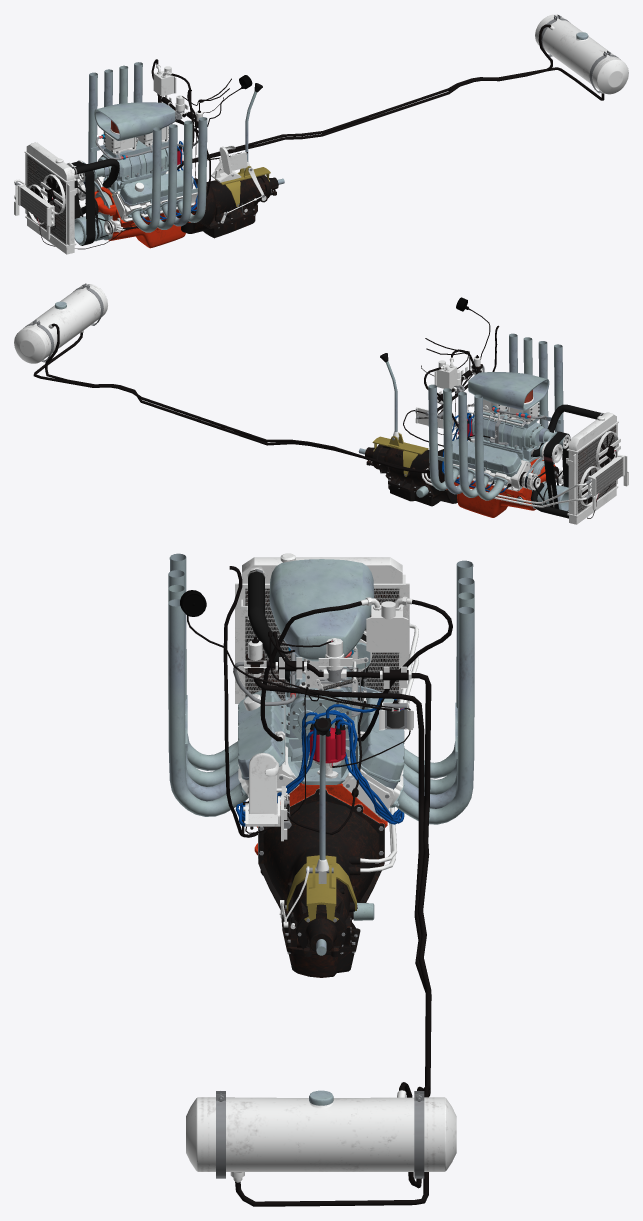
3 views of the same model, one above another, from view 1: azimuth 30°, elevation 25°; view 2: azimuth 150°, elevation 25°; view 3: azimuth 270°, elevation 25° (orthographic). The views are drawn at different scales.
Visible parts, largest first — view 1: SM_Exhaust_UprightHeader_Left, SM_Dragster_Fueltank, SM_Radiator, SM_TH400.001, SM_454_Block, SM_FuelSystem_Pipes, SM_Scoop, SM_Exhaust_UprightHeader_Right, SM_Littlefield_Blower, SM_Transcooler, SM_Blower_Belt, SM_HotFoot_Accelerator_Base (+6 smaller); view 2: SM_Exhaust_UprightHeader_Right, SM_Dragster_Fueltank, SM_Radiator, SM_454_Block, SM_TH400.001, SM_FuelSystem_Pipes, SM_Scoop, SM_Exhaust_UprightHeader_Left, SM_Littlefield_Blower, SM_Transcooler, SM_Blower_Belt, SM_Transcooler_Pipes (+9 smaller); view 3: SM_Dragster_Fueltank, SM_TH400.001, SM_454_Block, SM_Scoop, SM_Exhaust_UprightHeader_Left, SM_Exhaust_UprightHeader_Right, SM_FuelSystem_Pipes, SM_Radiator, SM_FuelSystem, SM_Littlefield_Blower, SM_V8_SparkWires, SM_Breather_Tank_Pipes (+10 smaller).
Boxes of the visible parts, x1,y1,x2,y2 form: SM_Exhaust_UprightHeader_Left: (127,117,207,232); SM_Dragster_Fueltank: (535,14,628,94); SM_Radiator: (24,142,77,254); SM_TH400.001: (186,166,278,238); SM_454_Block: (94,167,197,248); SM_FuelSystem_Pipes: (158,24,604,162); SM_Scoop: (94,102,175,140); SM_Exhaust_UprightHeader_Right: (88,62,142,163); SM_Littlefield_Blower: (82,140,168,182); SM_Transcooler: (14,184,54,239); SM_Blower_Belt: (71,161,95,245); SM_HotFoot_Accelerator_Base: (211,151,247,182); SM_Exhaust_UprightHeader_Right: (428,384,507,500); SM_Dragster_Fueltank: (14,283,107,363); SM_Radiator: (566,412,620,524); SM_454_Block: (446,436,546,517); SM_TH400.001: (365,432,457,506); SM_FuelSystem_Pipes: (33,323,475,473); SM_Scoop: (468,372,549,410); SM_Exhaust_UprightHeader_Left: (509,333,563,432); SM_Littlefield_Blower: (471,409,558,457); SM_Transcooler: (588,454,628,510); SM_Blower_Belt: (543,431,570,508); SM_Transcooler_Pipes: (421,468,591,507); SM_Dragster_Fueltank: (186,1090,456,1178); SM_TH400.001: (258,789,384,977); SM_454_Block: (238,690,404,875); SM_Scoop: (269,559,374,661); SM_Exhaust_UprightHeader_Left: (168,553,248,816); SM_Exhaust_UprightHeader_Right: (389,560,474,824); SM_FuelSystem_Pipes: (233,661,431,1206); SM_Radiator: (235,553,409,703); SM_FuelSystem: (244,637,411,688); SM_Littlefield_Blower: (285,642,370,740); SM_V8_SparkWires: (235,710,404,826); SM_Breather_Tank_Pipes: (260,596,452,741).
Bounding box in the file's own units: 4.34 × 1.32 × 1.02.
Materials: 3 (2 with a texture image).
